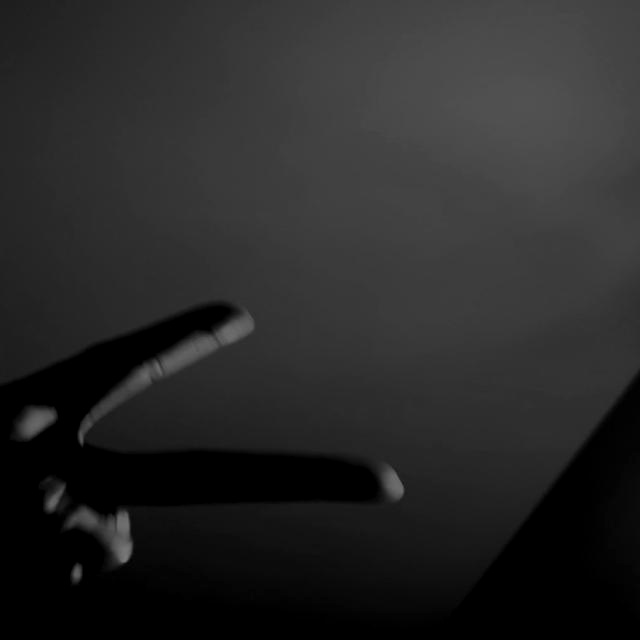Scissors: (0, 304, 401, 622)
